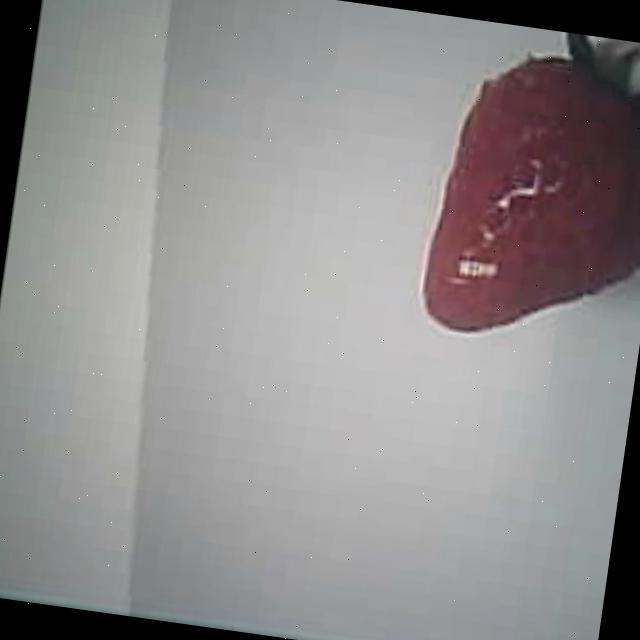strawberry: (413, 45, 640, 353)
